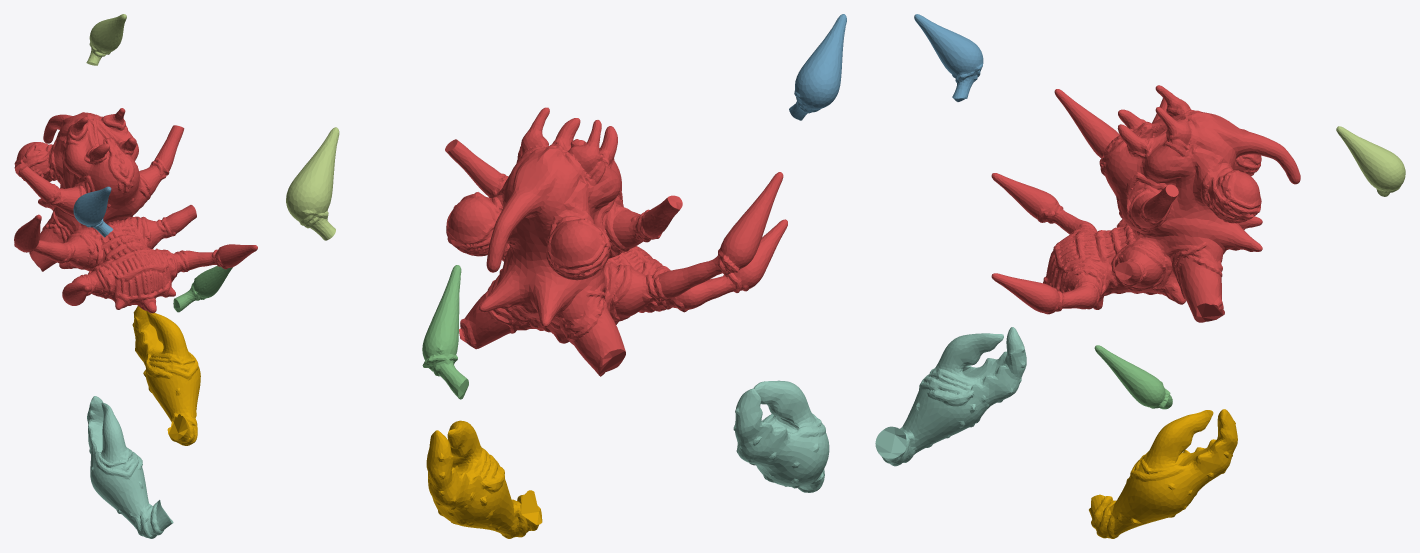
The model's file is fractured_15_6pcs_transformed.glb.
The picture shows the model from 3 angles, left to right: view 1: azimuth 30°, elevation 25°; view 2: azimuth 150°, elevation 25°; view 3: azimuth 270°, elevation 25°; orthographic projection. The views are drawn at different scales.
Parts seen in each view (by area): view 1: piece_1.obj, piece_0.obj, piece_4.obj, piece_2.obj, piece_5.obj, piece_3.obj; view 2: piece_1.obj, piece_0.obj, piece_4.obj, piece_5.obj, piece_2.obj, piece_3.obj; view 3: piece_1.obj, piece_4.obj, piece_0.obj, piece_2.obj, piece_5.obj, piece_3.obj.
Part boxes in pixels (x1,y1,x2,y2): piece_1.obj: (14,108,257,313); piece_0.obj: (132,306,200,445); piece_4.obj: (87,396,173,538); piece_2.obj: (73,186,113,237); piece_5.obj: (86,14,126,65); piece_3.obj: (173,266,232,312); piece_1.obj: (445,107,787,376); piece_0.obj: (426,420,542,538); piece_4.obj: (733,380,829,492); piece_5.obj: (286,127,339,240); piece_2.obj: (789,14,846,120); piece_3.obj: (422,265,468,399); piece_1.obj: (991,85,1300,322); piece_4.obj: (875,327,1026,466); piece_0.obj: (1089,409,1237,538); piece_2.obj: (914,14,983,101); piece_5.obj: (1336,126,1405,196); piece_3.obj: (1094,345,1172,409).
Bounding box in the file's own units: 0.8751 × 1.35 × 1.51.
